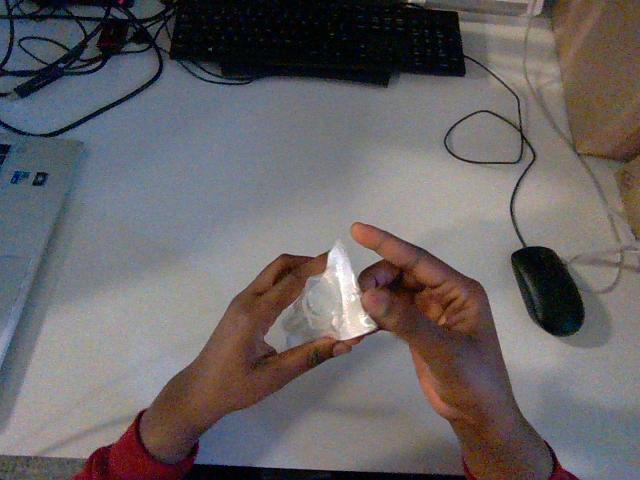syringe: (278, 240, 377, 347)
